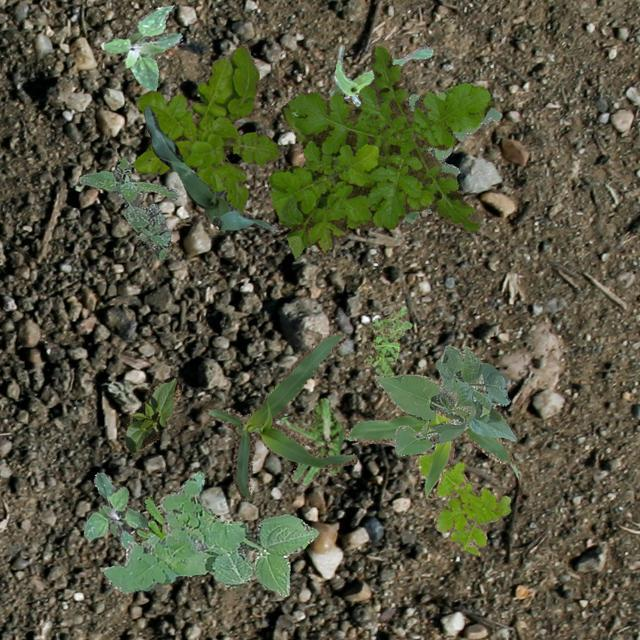crop: (205, 330, 356, 500), (142, 106, 278, 232), (374, 344, 516, 456), (345, 408, 517, 499), (328, 44, 432, 106), (122, 374, 180, 454), (290, 110, 296, 116)
weed: (268, 44, 490, 258), (132, 45, 282, 212), (102, 470, 210, 592), (402, 91, 500, 220), (178, 510, 318, 596), (78, 154, 178, 260), (416, 454, 509, 554), (104, 4, 180, 90), (280, 396, 342, 486), (83, 472, 147, 548), (362, 304, 410, 376), (134, 496, 164, 544)
